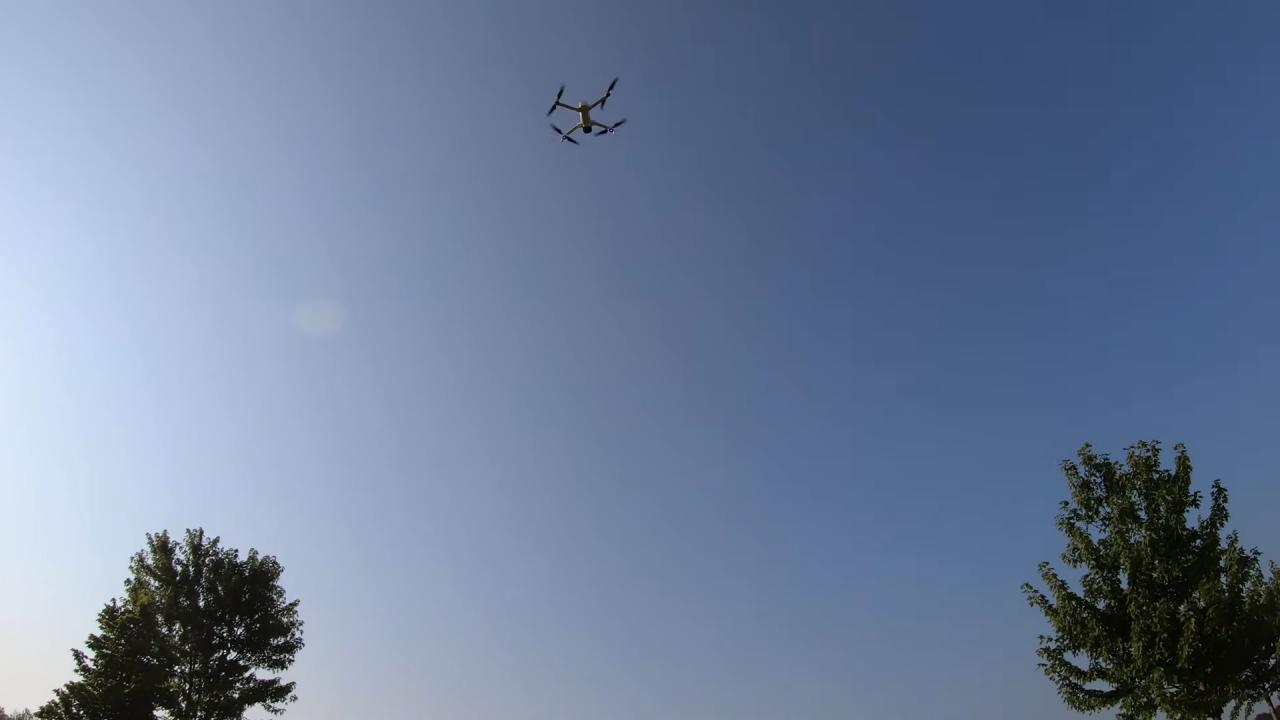Drone: (532, 68, 642, 158)
